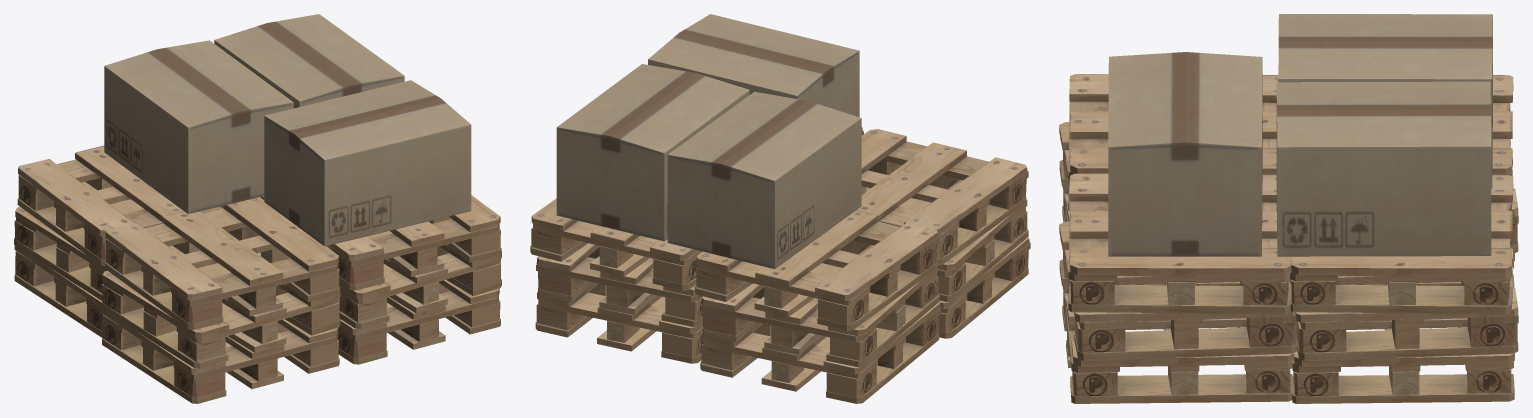
File: P_Building_materials_market_05.obj
The picture shows the model from 3 angles, left to right: view 1: azimuth 30°, elevation 25°; view 2: azimuth 150°, elevation 25°; view 3: azimuth 270°, elevation 25°; orthographic projection. The views are drawn at different scales.
Bounding box in the file's own units: 3.2 × 1.87 × 3.1.
7 materials, 7 textured.
